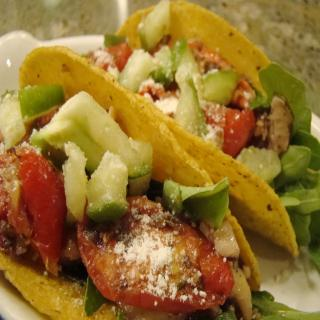tomato: (75, 194, 234, 308), (136, 90, 254, 162), (6, 148, 66, 264)
